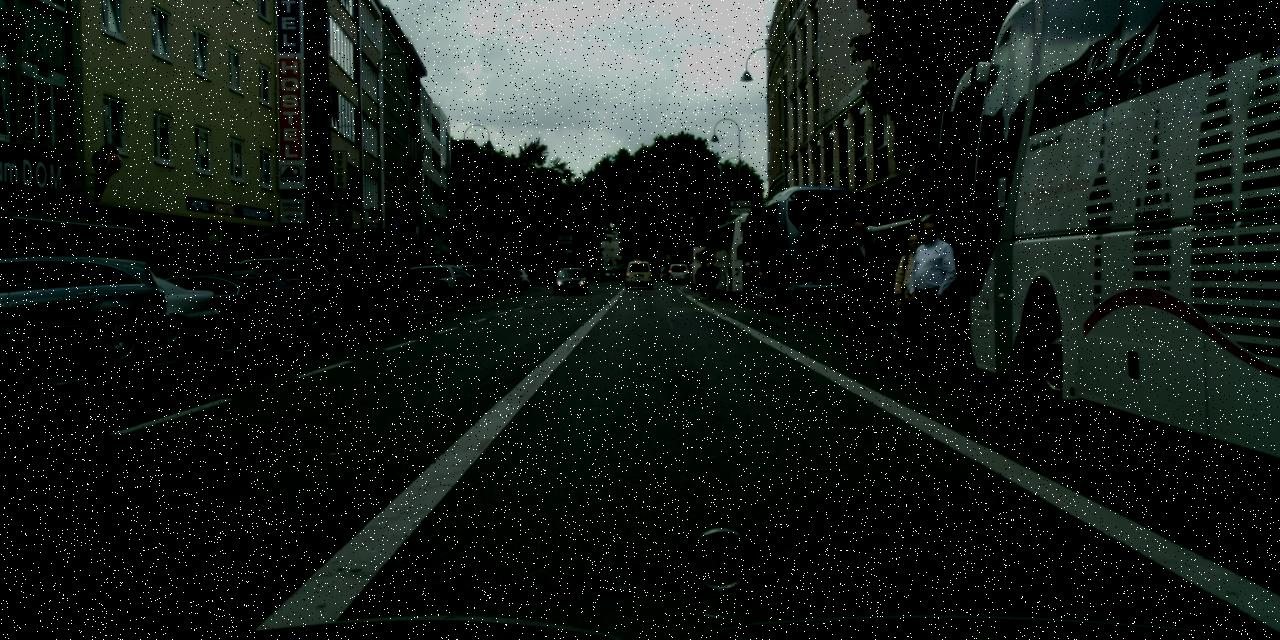ped: (899, 221, 963, 377), (832, 216, 896, 371), (890, 234, 944, 365), (185, 262, 208, 320), (695, 259, 711, 299), (705, 264, 719, 298)
